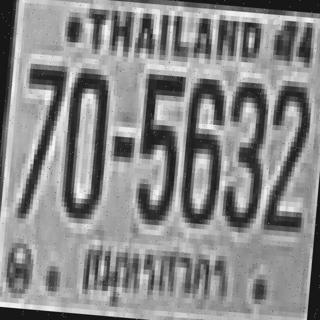N00: (57, 64, 110, 217)
N02: (261, 77, 310, 230)
N03: (218, 76, 268, 228)
N05: (134, 68, 183, 221)
N06: (176, 72, 226, 225)
N07: (15, 58, 65, 216)
P58: (77, 235, 234, 320)
